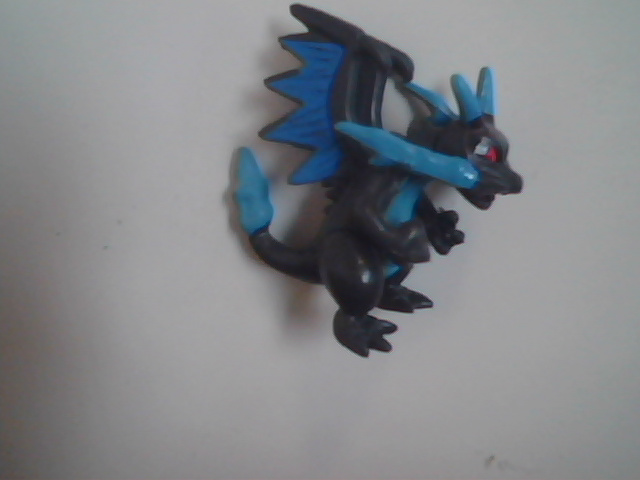charizard: (164, 5, 537, 373)
